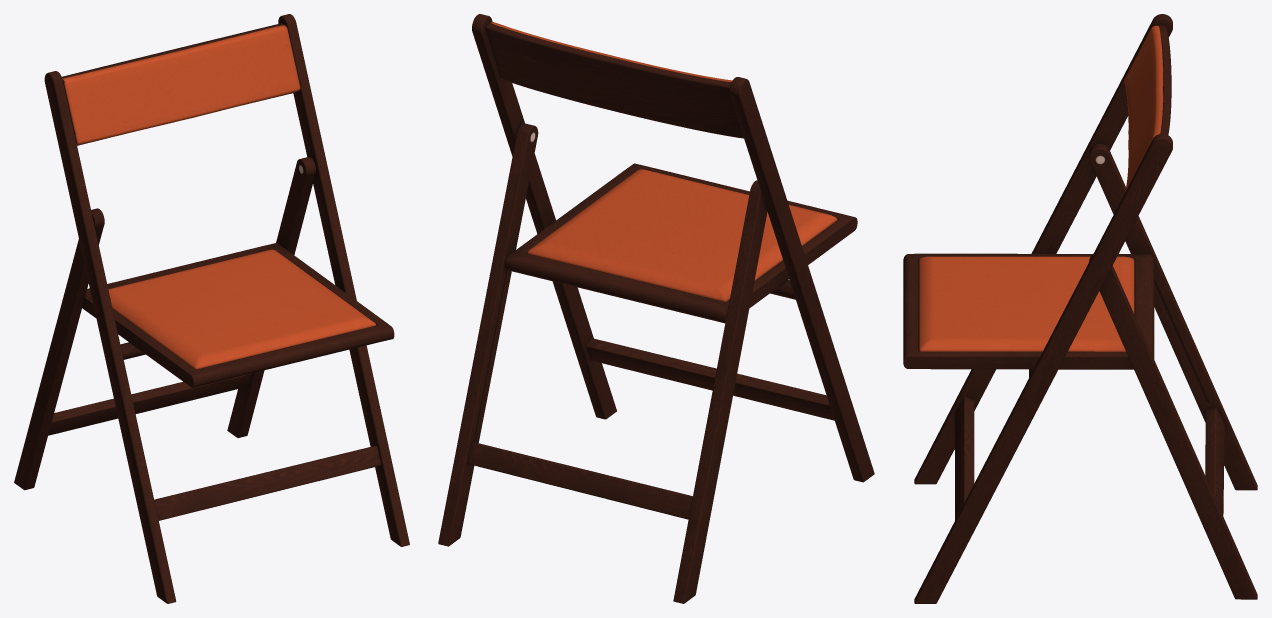
The picture shows the model from 3 angles, left to right: view 1: azimuth 30°, elevation 25°; view 2: azimuth 150°, elevation 25°; view 3: azimuth 270°, elevation 25°; orthographic projection. The views are drawn at different scales.
Visible parts, largest first — view 1: Kowloon Folding Chair; view 2: Kowloon Folding Chair; view 3: Kowloon Folding Chair.
Boxes of the visible parts, bbox=[...] form: Kowloon Folding Chair: bbox=[14, 14, 409, 603]; Kowloon Folding Chair: bbox=[438, 14, 874, 603]; Kowloon Folding Chair: bbox=[903, 14, 1257, 603].
Bounding box in the file's own units: 0.4456 × 0.7791 × 0.5356.
Materials: 1 (1 with a texture image).
